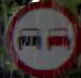No overtake: (5, 2, 77, 74)
